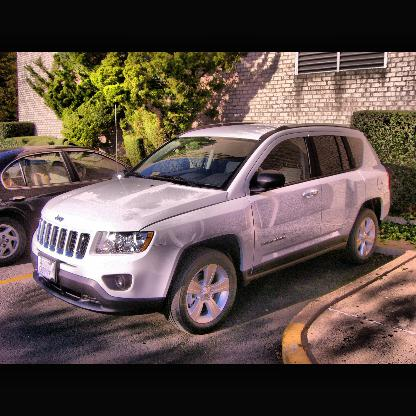Jeep Compass SUV 2012: (30, 122, 392, 338)
